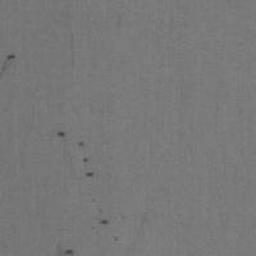Inclusion: (64, 249, 74, 256), (7, 54, 16, 60), (57, 131, 65, 137), (86, 172, 94, 177)
